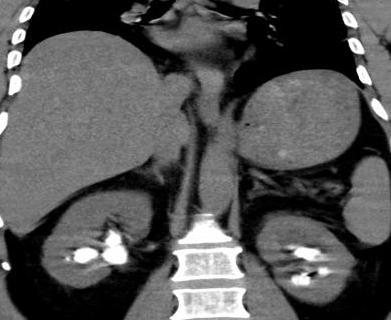Tas_Var: (98, 246, 141, 266), (68, 247, 100, 266), (291, 246, 328, 262), (102, 234, 128, 246), (290, 273, 312, 285), (315, 266, 331, 278), (281, 242, 296, 252), (62, 255, 72, 263), (298, 270, 311, 276), (108, 228, 115, 234)
